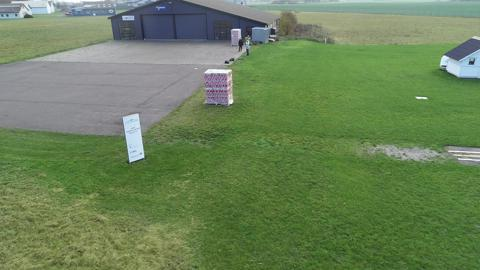RockwoolPallet: (231, 28, 242, 47)
